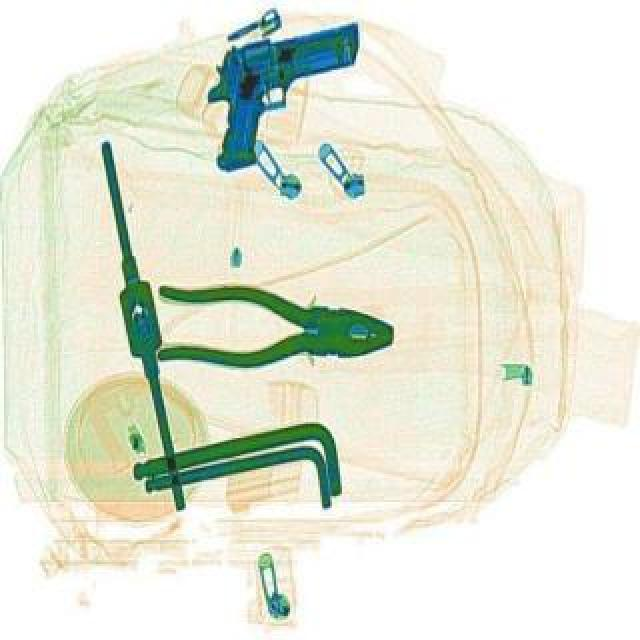gun: (188, 18, 388, 170)
wrench: (150, 276, 398, 378)
